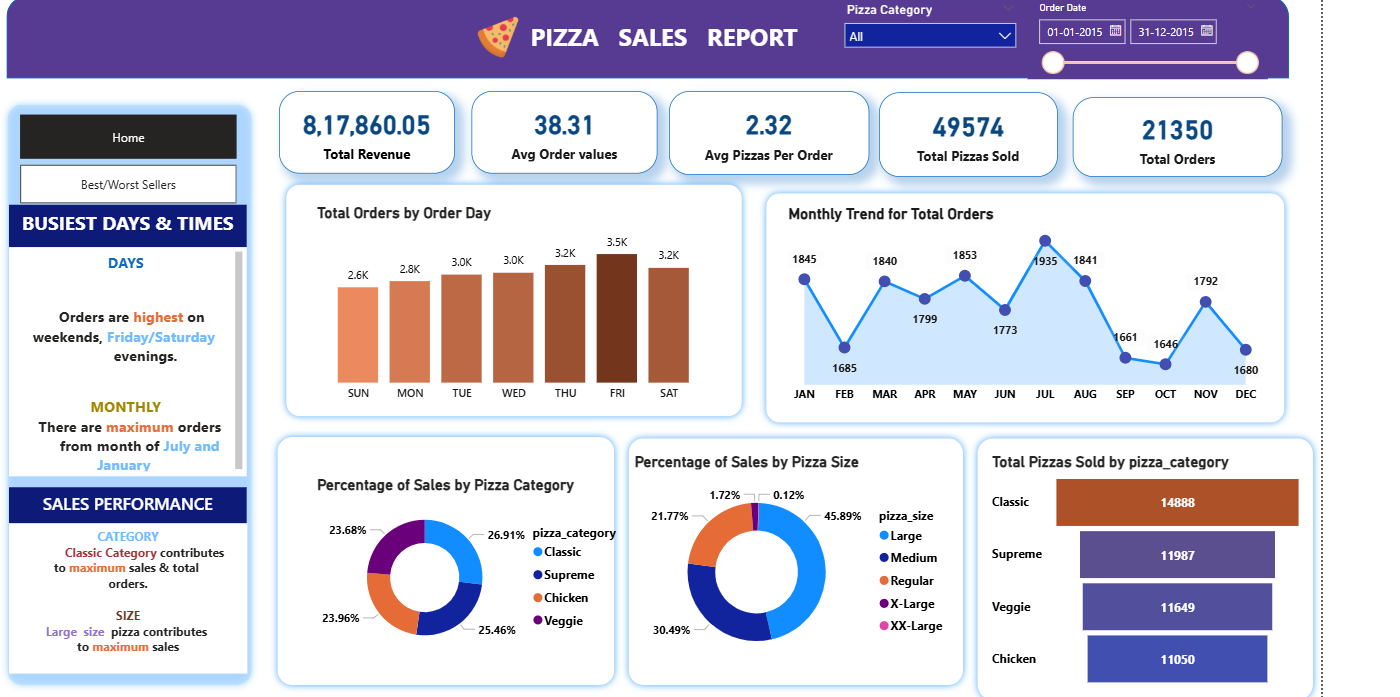

The page's visual inventory and layout, read from the dashboard file:
{"tool":"powerbi","page":{"name":"Home","canvas":[1500,820],"ordinal":0},"visuals":[{"type":"card","fields":{"Values":["pizza_sales.Total Revenue"]},"box":[339.8,133.7,196.4,91.9],"z":0},{"type":"card","fields":{"Values":["pizza_sales.Avg Order values"]},"box":[554.3,133.7,207.5,91.9],"z":1000},{"type":"card","fields":{"Values":["pizza_sales.Avg Pizzas Per Order"]},"box":[774.3,133.7,222.8,93.3],"z":2000},{"type":"card","fields":{"Values":["pizza_sales.Total Pizzas Sold"]},"box":[1008.3,135.1,199.2,94.7],"z":3000},{"type":"card","fields":{"Values":["pizza_sales.Total Orders"]},"box":[1224.2,140.7,234,89.1],"z":4000},{"type":"shape","box":[36.2,27.9,1428.9,91.9],"z":5000},{"type":"textbox","box":[571,50.1,466.5,46],"z":6000},{"type":"image","box":[525,50.1,117,47.4],"z":7000},{"type":"shape","box":[339.8,229.8,523.6,274.4],"z":8000},{"type":"columnChart","fields":{"Category":["pizza_sales.Order Day"],"Y":["pizza_sales.Total Orders"]},"box":[377.4,259,448.4,229.8],"z":9000},{"type":"shape","box":[874.6,239.5,593.3,271.6],"z":10000},{"type":"areaChart","title":"Monthly Trend for Total Orders","fields":{"Category":["pizza_sales.Order Month"],"Y":["pizza_sales.Total Orders"]},"box":[902.5,260.4,537.6,229.8],"z":11000},{"type":"shape","box":[330.1,511.1,391.3,292.5],"z":12000},{"type":"shape","box":[721.4,512.5,388.6,291.1],"z":13000},{"type":"shape","box":[1110,512.5,389.9,307.8],"z":14000},{"type":"donutChart","title":"Percentage of Sales by Pizza Category","fields":{"Category":["pizza_sales.pizza_category"],"Y":["pizza_sales.Total Revenue"]},"box":[377.4,562.6,364.9,207.5],"z":15000},{"type":"donutChart","title":"Percentage of Sales by Pizza Size ","fields":{"Y":["pizza_sales.Total Revenue"],"Category":["pizza_sales.pizza_size"]},"box":[731.2,536.2,364.9,247.9],"z":16000},{"type":"funnel","fields":{"Category":["pizza_sales.pizza_category"],"Y":["pizza_sales.Total Pizzas Sold"]},"box":[1129.5,536.2,356.5,267.4],"z":17000},{"type":"shape","box":[29.2,140.7,288.3,662.9],"z":18000},{"type":"textbox","box":[39,260.4,264.6,47.4],"z":19000},{"type":"textbox","box":[39,307.8,264.6,254.9],"z":20000},{"type":"textbox","box":[39,575.2,264.6,40.4],"z":21000},{"type":"textbox","box":[38.6,615.9,265.3,167.2],"z":22000},{"type":"slicer","fields":{"Values":["pizza_sales.pizza_category"]},"box":[959.5,29.2,211.7,75.2],"z":23000},{"type":"slicer","fields":{"Values":["pizza_sales.order_date"]},"box":[1174,29.2,266,90.5],"z":23001},{"type":"pageNavigator","box":[51.5,160.8,241.2,49.9],"z":23002},{"type":"pageNavigator","box":[51.5,215.5,241.2,43.4],"z":23003}]}

Visuals, with their boxes on the page's 1500x820 design canvas (x1, y1, x2, y2). These are canvas units, not pixel positions in the 1400x697 screenshot, which may show the page scaled, cropped or inside an application window:
card - pizza_sales.Total Revenue: box=[340, 134, 536, 226]
card - pizza_sales.Avg Order values: box=[554, 134, 762, 226]
card - pizza_sales.Avg Pizzas Per Order: box=[774, 134, 997, 227]
card - pizza_sales.Total Pizzas Sold: box=[1008, 135, 1208, 230]
card - pizza_sales.Total Orders: box=[1224, 141, 1458, 230]
shape: box=[36, 28, 1465, 120]
textbox: box=[571, 50, 1038, 96]
image: box=[525, 50, 642, 98]
shape: box=[340, 230, 863, 504]
columnChart - pizza_sales.Order Day x pizza_sales.Total Orders: box=[377, 259, 826, 489]
shape: box=[875, 240, 1468, 511]
"Monthly Trend for Total Orders" areaChart: box=[902, 260, 1440, 490]
shape: box=[330, 511, 721, 804]
shape: box=[721, 512, 1110, 804]
shape: box=[1110, 512, 1500, 820]
"Percentage of Sales by Pizza Category" donutChart: box=[377, 563, 742, 770]
"Percentage of Sales by Pizza Size " donutChart: box=[731, 536, 1096, 784]
funnel - pizza_sales.pizza_category x pizza_sales.Total Pizzas Sold: box=[1130, 536, 1486, 804]
shape: box=[29, 141, 318, 804]
textbox: box=[39, 260, 304, 308]
textbox: box=[39, 308, 304, 563]
textbox: box=[39, 575, 304, 616]
textbox: box=[39, 616, 304, 783]
slicer - pizza_sales.pizza_category: box=[960, 29, 1171, 104]
slicer - pizza_sales.order_date: box=[1174, 29, 1440, 120]
pageNavigator: box=[52, 161, 293, 211]
pageNavigator: box=[52, 216, 293, 259]
